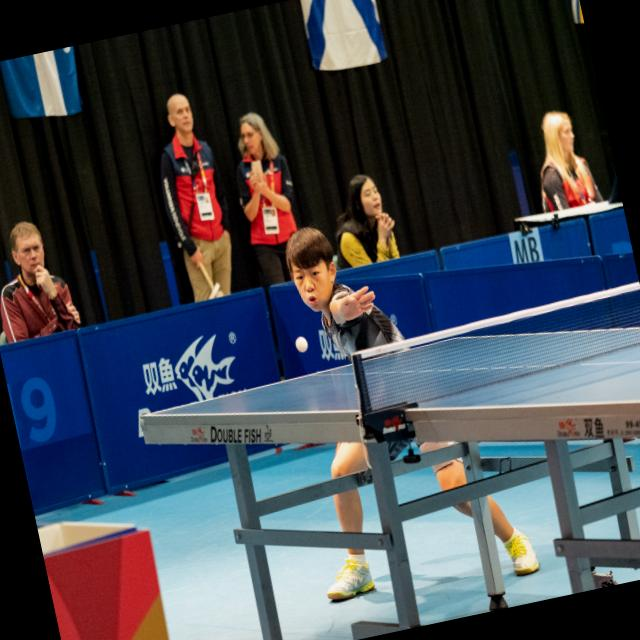TT Net: (343, 279, 640, 427)
TT Table: (141, 326, 640, 431)
